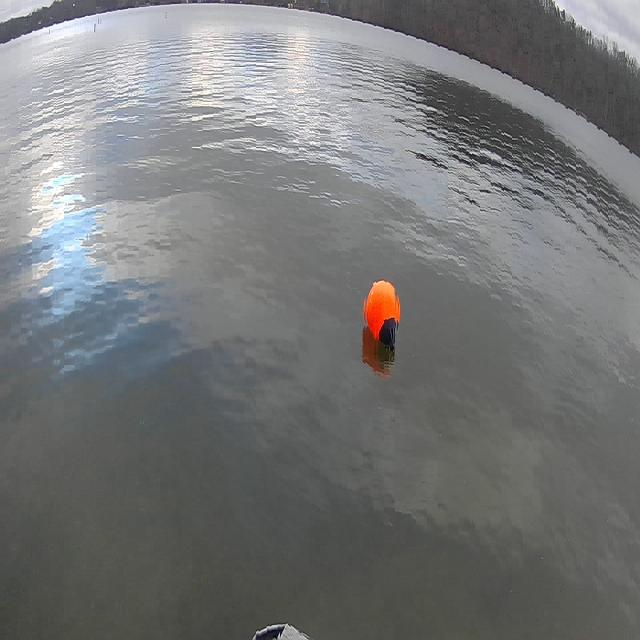Buoy: (358, 268, 407, 372)
